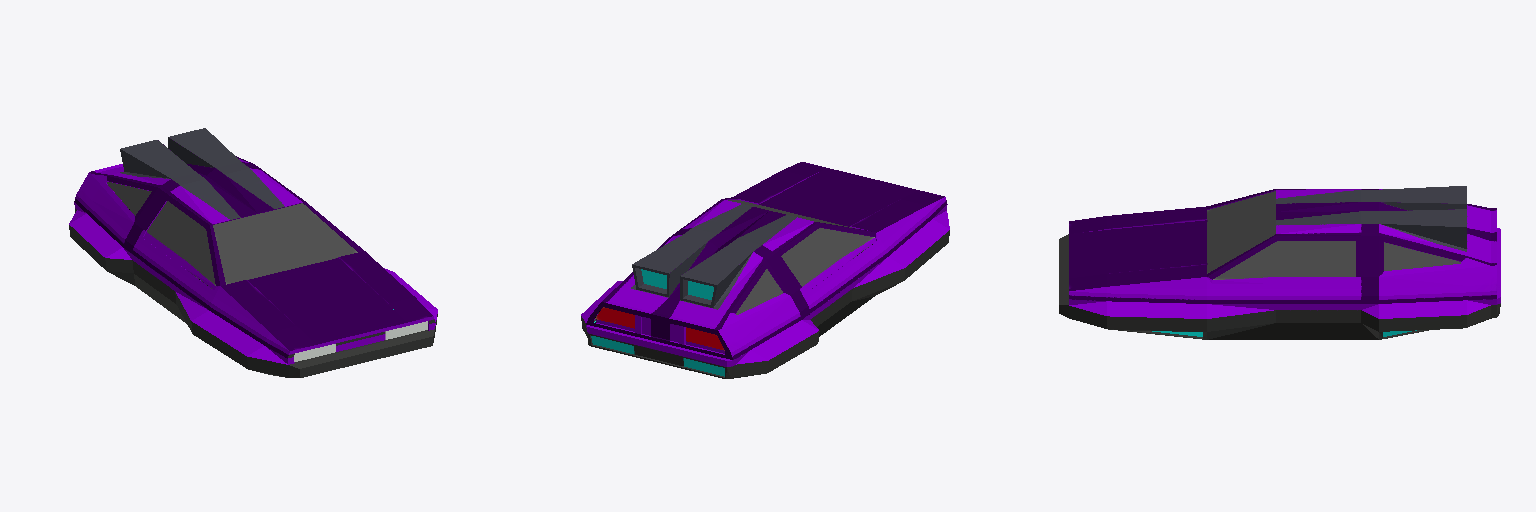
3 renders of one model, left to right at view 1: azimuth 30°, elevation 25°; view 2: azimuth 150°, elevation 25°; view 3: azimuth 270°, elevation 25°, orthographic.
Parts seen in each view (by area): view 1: DMC_Sci-Fi_Hover_Car; view 2: DMC_Sci-Fi_Hover_Car; view 3: DMC_Sci-Fi_Hover_Car.
Boxes of the visible parts, x1=… form: DMC_Sci-Fi_Hover_Car: x1=69, y1=128, x2=437, y2=377; DMC_Sci-Fi_Hover_Car: x1=581, y1=162, x2=949, y2=378; DMC_Sci-Fi_Hover_Car: x1=1059, y1=186, x2=1500, y2=339.
Bounding box in the file's own units: 2.21 × 1.03 × 4.17.
Materials: 1 (1 with a texture image).